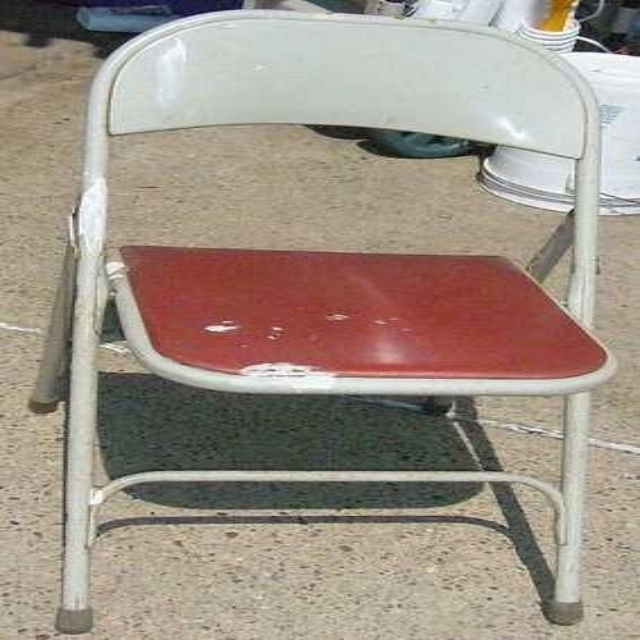obstacle: (57, 10, 613, 632), (561, 52, 638, 214)
